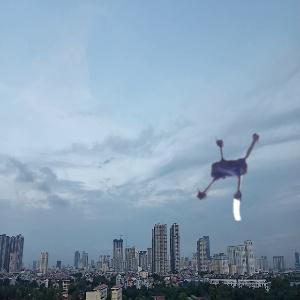drone: (177, 127, 285, 235)
